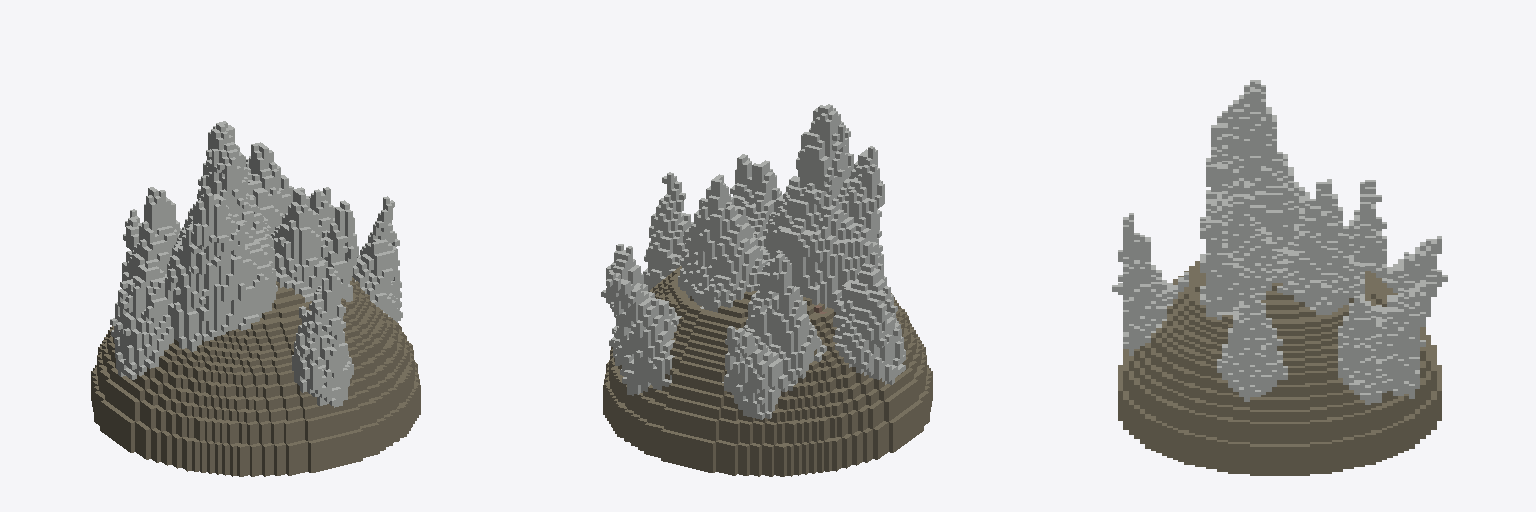
The picture shows the model from 3 angles: view 1: azimuth 30°, elevation 25°; view 2: azimuth 150°, elevation 25°; view 3: azimuth 270°, elevation 25°; orthographic projection.
Bounding box in the file's own units: 59 × 61 × 61.
Materials: 1 (1 with a texture image).